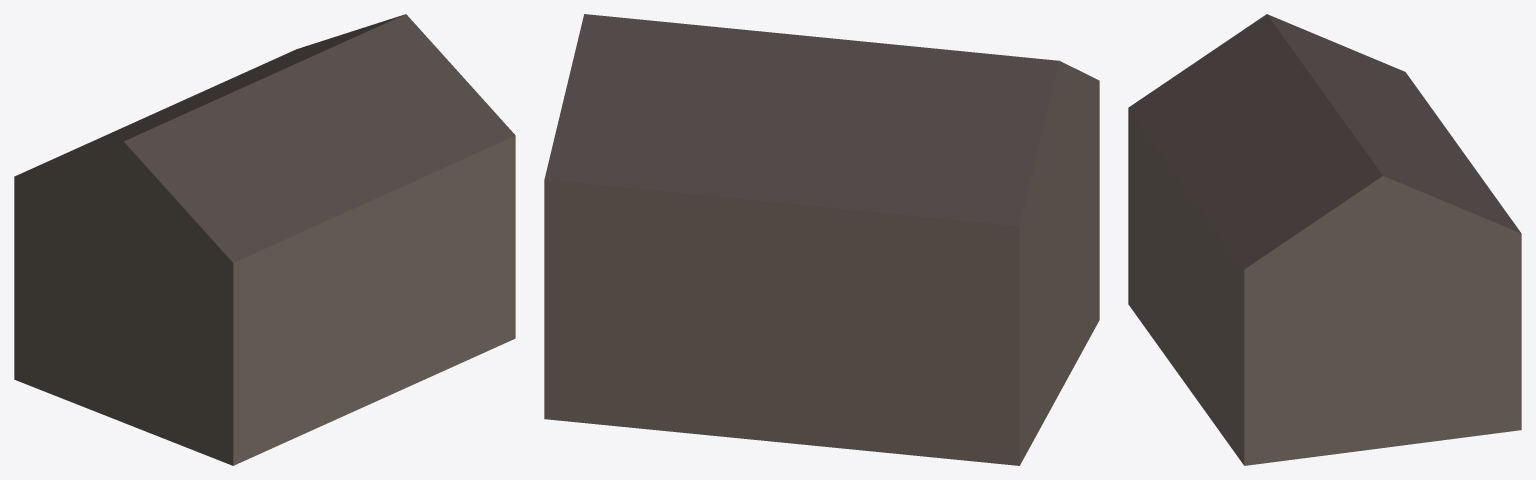
3 views of the same model, side by side, from view 1: azimuth 30°, elevation 25°; view 2: azimuth 150°, elevation 25°; view 3: azimuth 270°, elevation 25° (orthographic). The views are drawn at different scales.
Parts seen in each view (by area): view 1: HP-w380339871; view 2: HP-w380339871; view 3: HP-w380339871.
Boxes of the visible parts, bbox=[...] form: HP-w380339871: bbox=[14, 14, 515, 465]; HP-w380339871: bbox=[544, 14, 1099, 465]; HP-w380339871: bbox=[1128, 14, 1521, 465].
Bounding box in the file's own units: 19.42 × 12.48 × 16.34.
